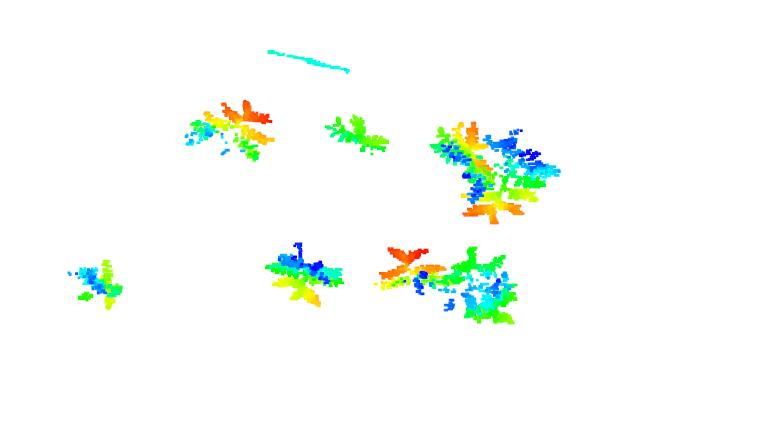chickpea: (462, 132, 560, 225), (442, 245, 520, 326), (184, 98, 274, 163), (267, 242, 347, 308), (432, 120, 494, 187), (376, 243, 448, 289), (321, 113, 390, 155), (74, 259, 128, 312)
